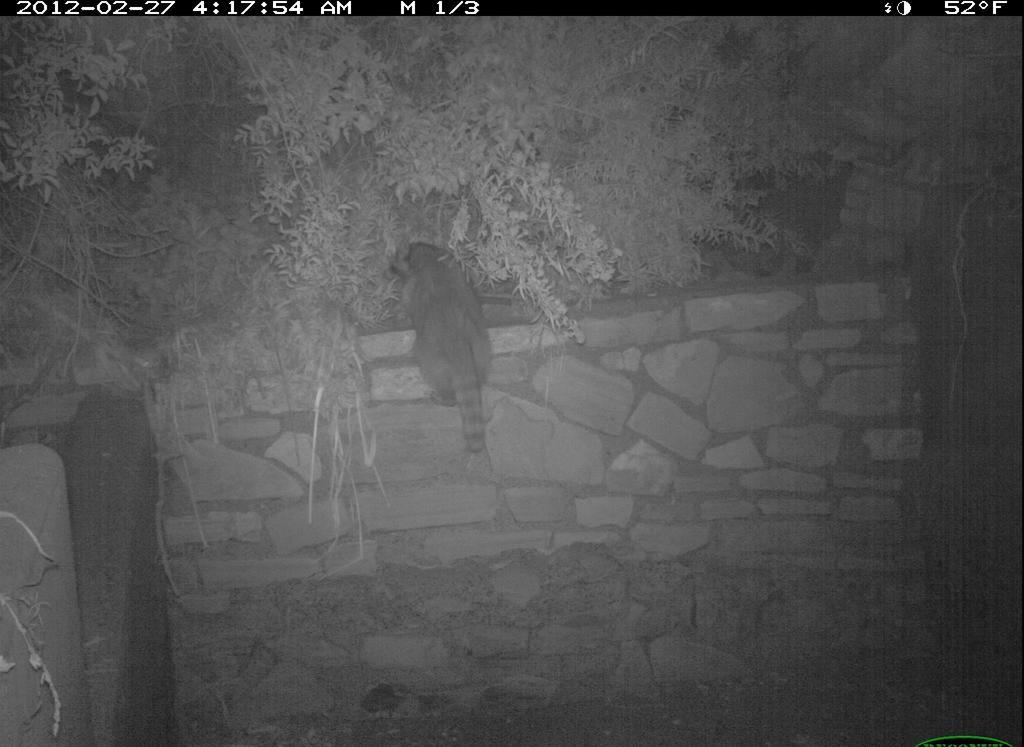raccoon: (386, 223, 527, 474)
